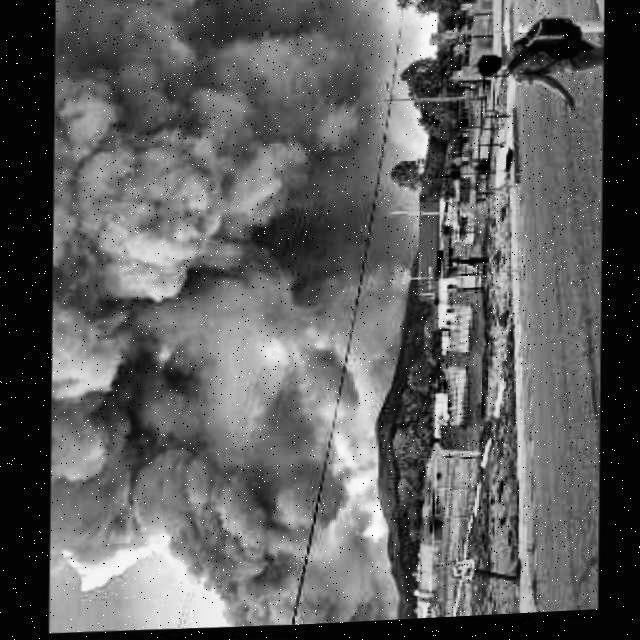Fire: (320, 403, 398, 571), (256, 325, 325, 429)
Smoke: (46, 0, 404, 621)
